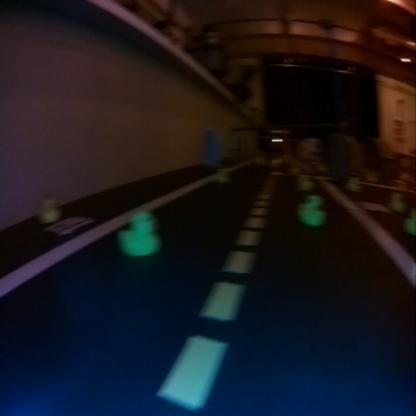Duckie: (118, 210, 159, 256), (299, 193, 327, 227), (37, 198, 56, 222)
QR code: (47, 214, 94, 233)
